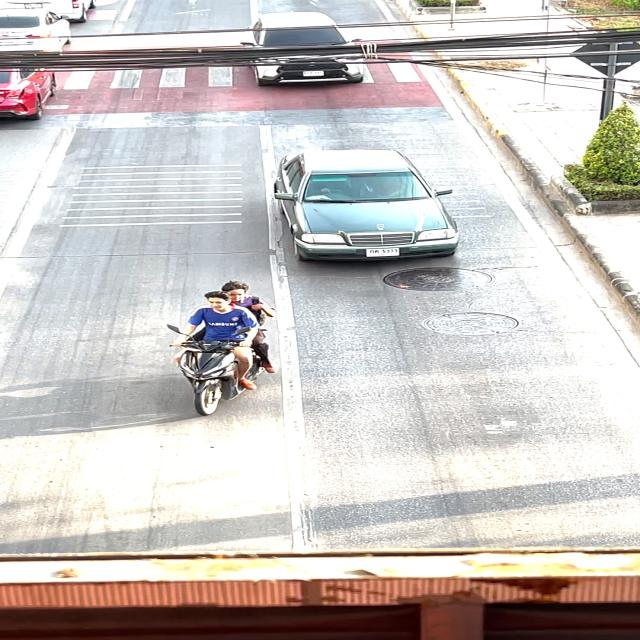car: (253, 137, 473, 286), (223, 7, 376, 97)
